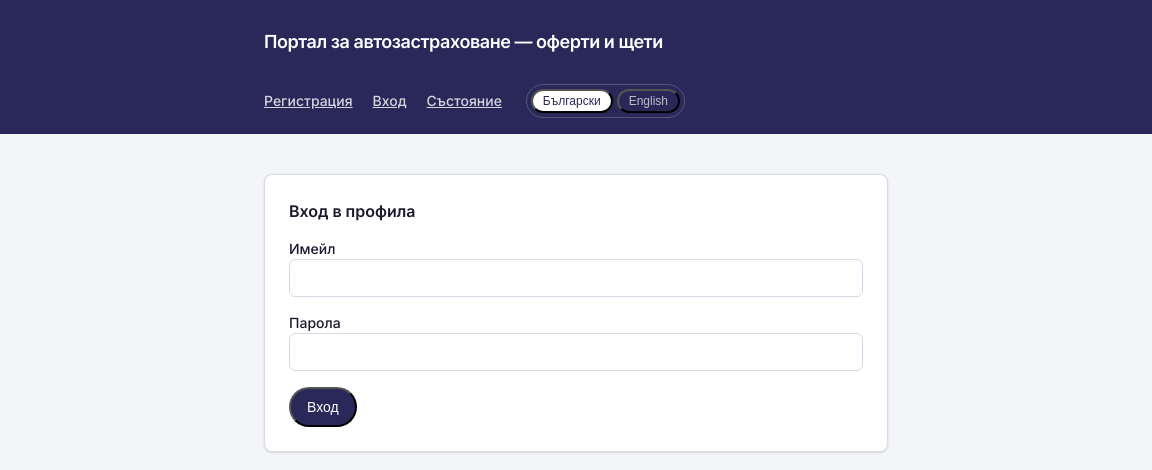
Scenario: LanguageToggle › switches back to Bulgarian
The width and height of the screenshot is (1152, 470).
What coordinates should you click on to do the following:
click the button "English"
I would click on:
 (648, 101)
Its box is top-left (617, 89), bottom-right (680, 113).
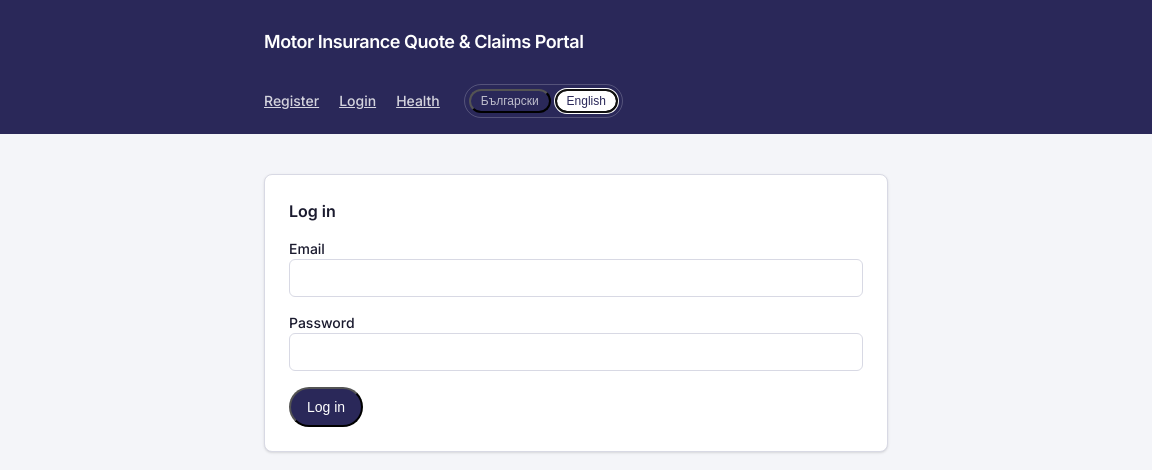
expect the heading "Motor Insurance Quote & Claims Portal" is shown: met, box top-left (264, 28), bottom-right (583, 56)
What coordinates should you click on to do the following:
click the button "Български"
I would click on:
 (510, 101)
Its box is top-left (469, 89), bottom-right (551, 113).
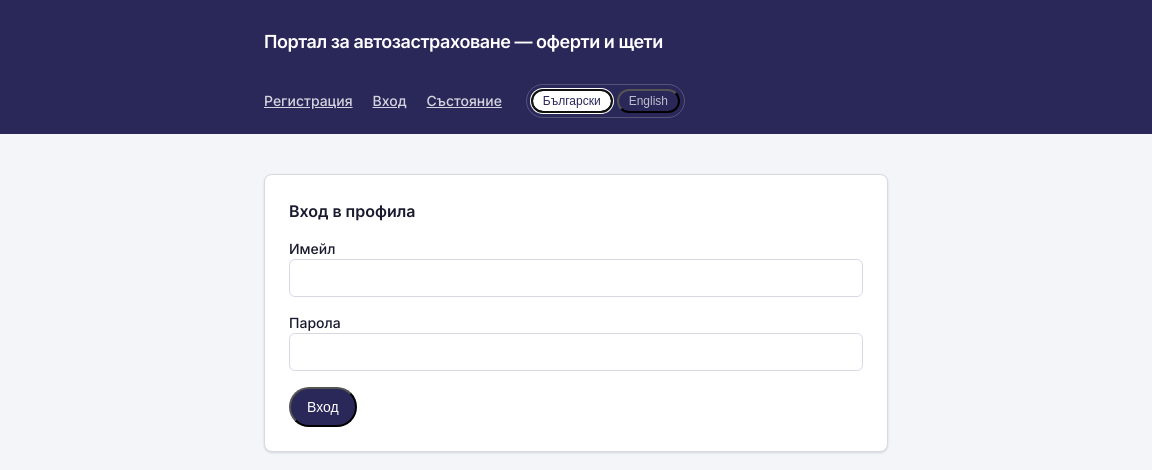
expect the heading "Портал за автозастраховане — оферти и щети" is shown: met, box top-left (264, 28), bottom-right (663, 56)
